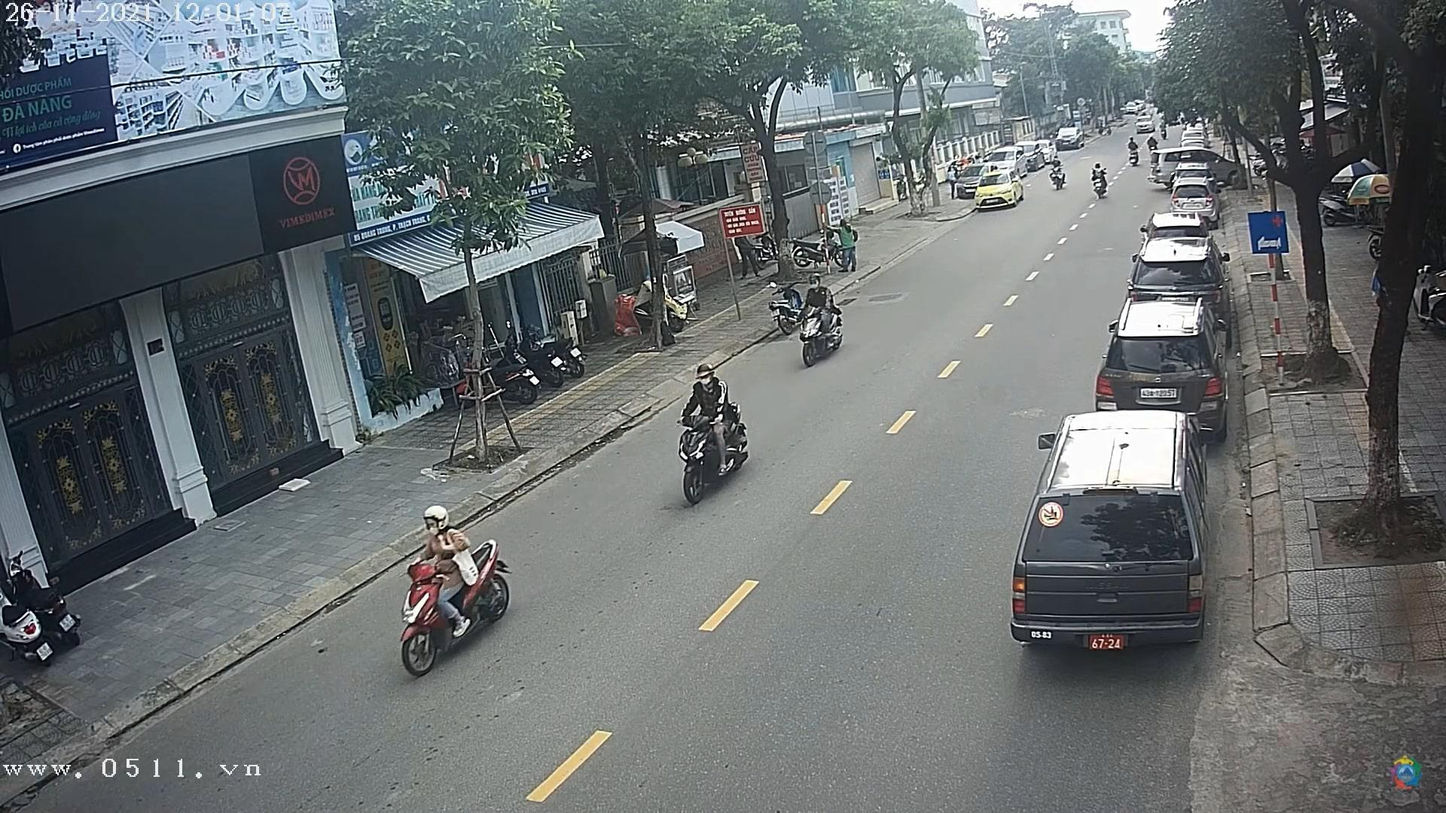car: (1014, 410, 1207, 647), (1097, 299, 1226, 421), (1133, 235, 1222, 288), (1059, 125, 1088, 149)
motorbike: (396, 540, 515, 678), (675, 405, 756, 502), (795, 300, 845, 366)
